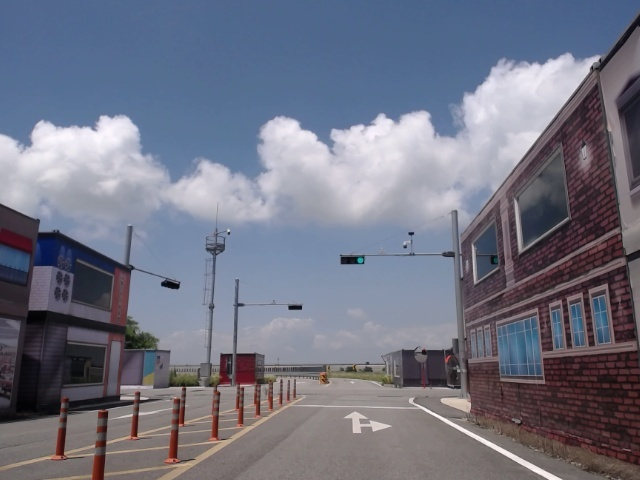green_3: (342, 257, 365, 264)
